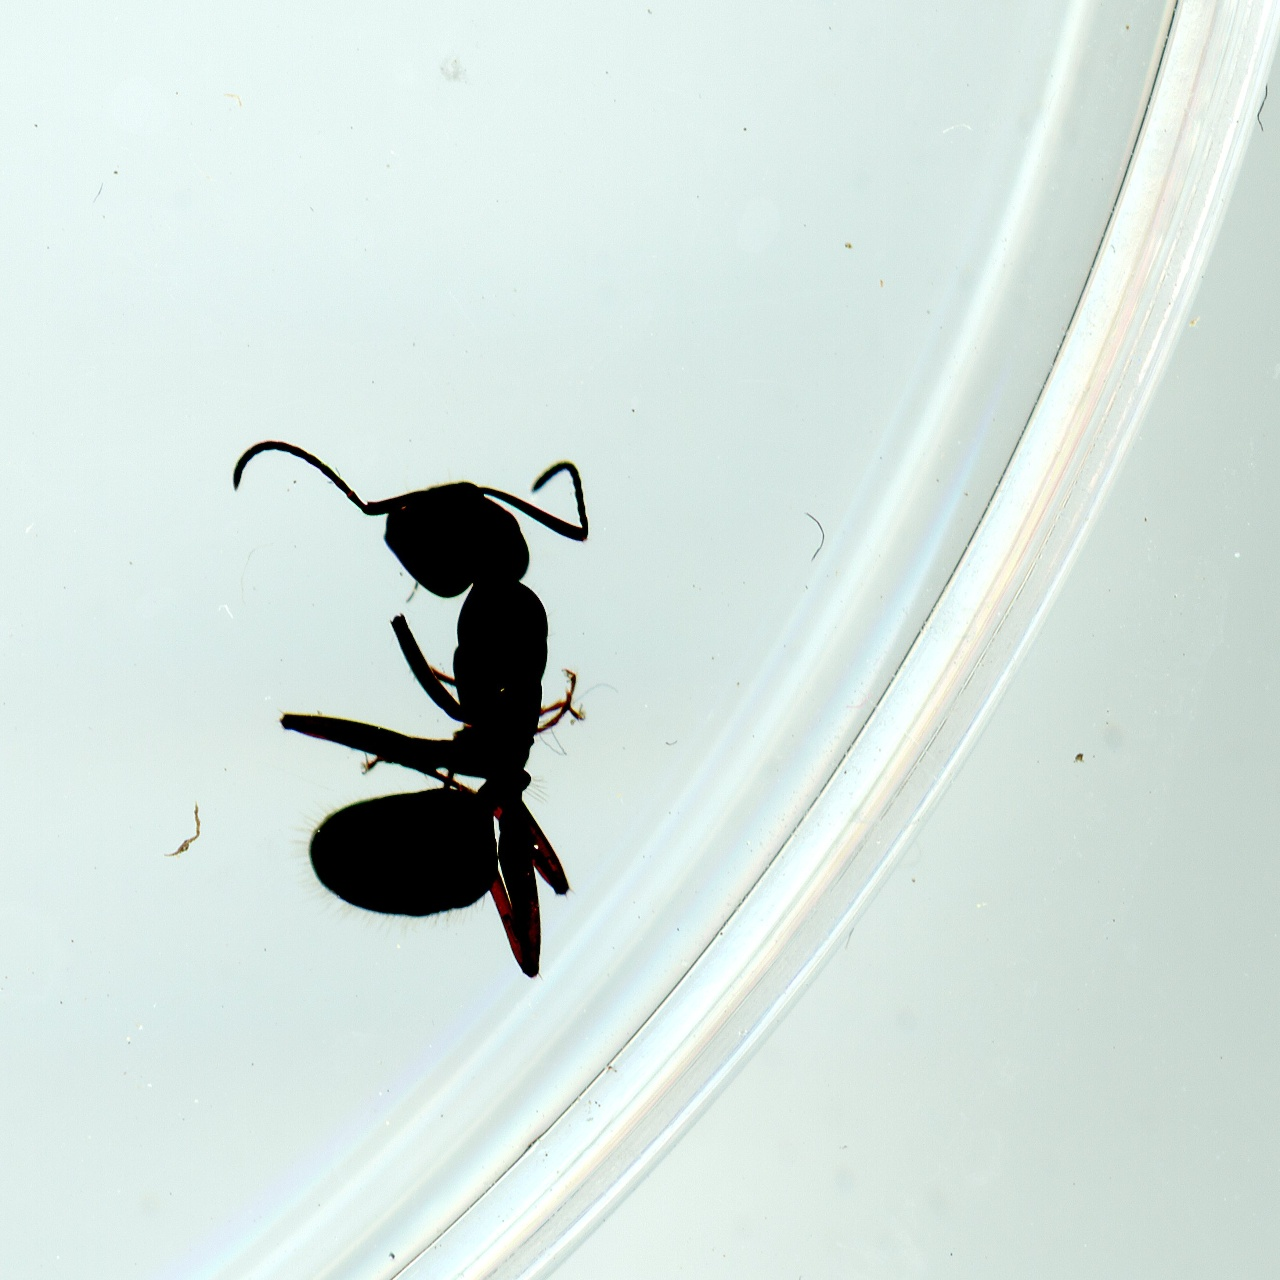arthropod: (213, 403, 607, 1003)
